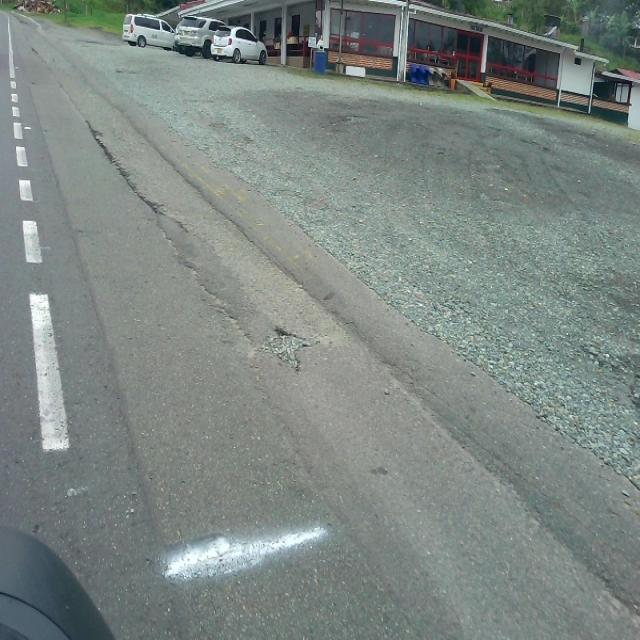DITCH: (6, 12, 638, 638)
